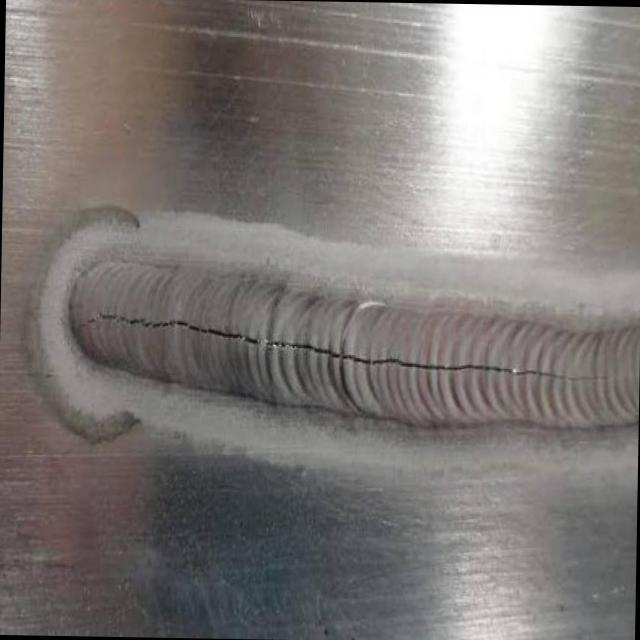defect: (72, 307, 611, 381)
